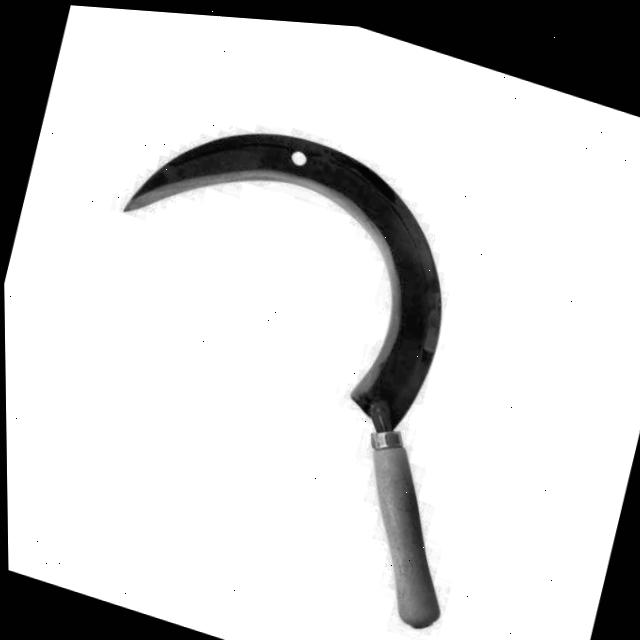celurit: (105, 120, 469, 640)
